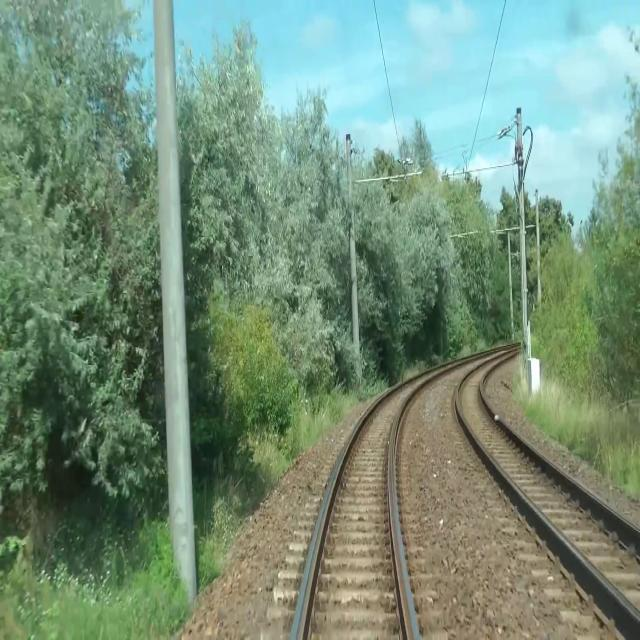rail-track: (458, 358, 640, 610), (299, 375, 424, 639)
